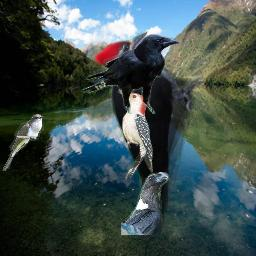Crow: (80, 34, 181, 114), (121, 172, 169, 235)
Cuckoo: (2, 114, 44, 171)
Woodpecker: (90, 30, 204, 233), (116, 89, 153, 180)
